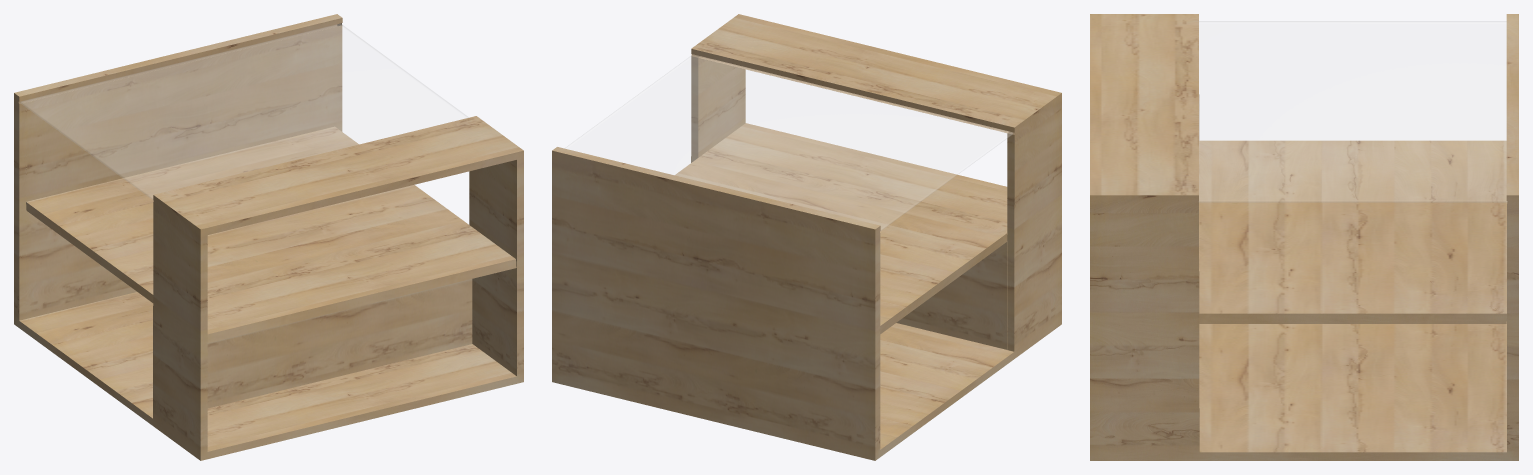
The model's file is c_table.gltf.
3 renders of one model, left to right at view 1: azimuth 30°, elevation 25°; view 2: azimuth 150°, elevation 25°; view 3: azimuth 270°, elevation 25°, orthographic. The views are drawn at different scales.
Visible parts, largest first — view 1: CTable_0, CTable_1; view 2: CTable_0, CTable_1; view 3: CTable_0, CTable_1.
Part boxes in pixels (left/top/right/bottom): CTable_0: left=14, top=14, right=523, bottom=460; CTable_1: left=20, top=23, right=468, bottom=199; CTable_0: left=552, top=14, right=1061, bottom=460; CTable_1: left=565, top=54, right=1012, bottom=230; CTable_0: left=1090, top=14, right=1518, bottom=460; CTable_1: left=1199, top=21, right=1507, bottom=202.
Size of the model in its own units: 0.57 by 0.39 by 0.57.
